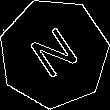N_SE: (23, 21, 85, 85)
